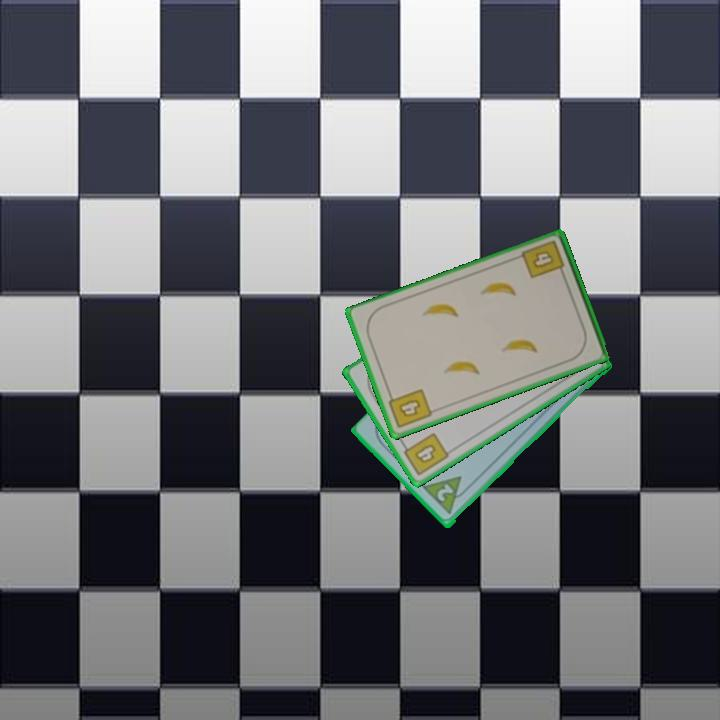2p: (433, 480, 457, 505)
4b: (398, 429, 452, 479), (384, 385, 435, 432), (518, 237, 568, 282)
